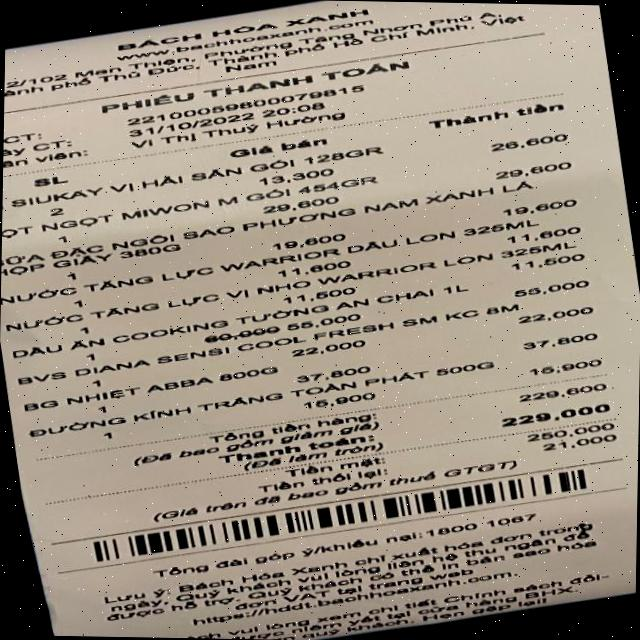Date: (108, 105, 264, 144)
Store_Name: (72, 0, 418, 66)
amount_number: (486, 396, 624, 433)
label_total: (218, 428, 380, 466)
